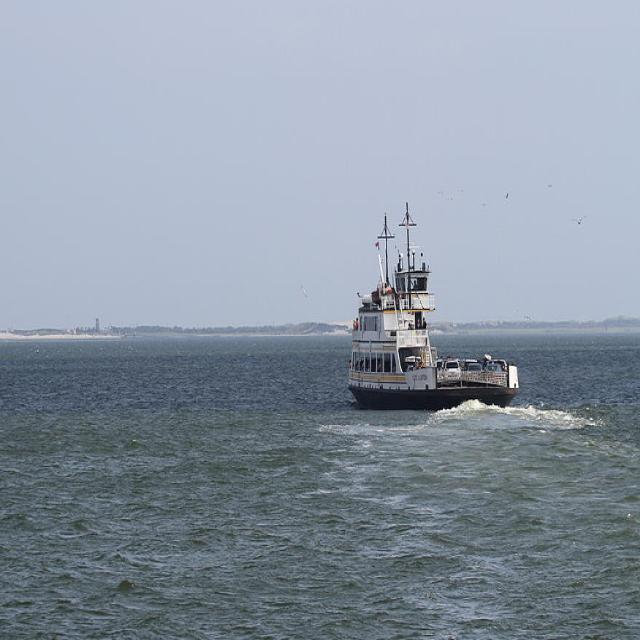cargoship: (348, 226, 519, 406)
